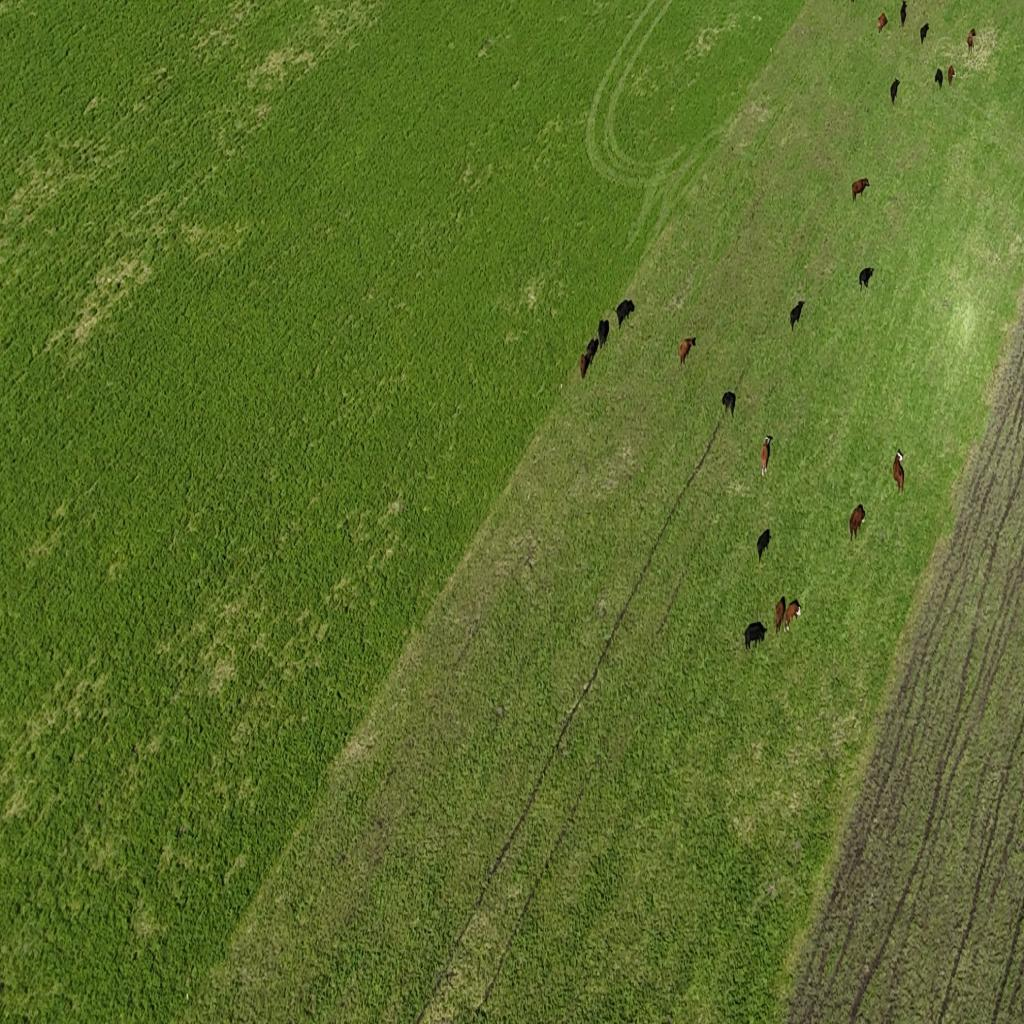cow: (849, 504, 867, 542), (743, 620, 765, 648), (784, 598, 802, 632), (615, 299, 635, 329), (892, 450, 905, 495), (756, 526, 771, 564), (678, 337, 696, 368), (858, 265, 876, 291), (774, 596, 786, 635), (790, 300, 804, 332), (852, 178, 870, 202), (722, 391, 736, 421), (760, 435, 770, 475), (598, 318, 610, 348), (586, 337, 596, 367), (890, 77, 900, 105), (878, 12, 888, 34), (899, 0, 907, 27), (968, 27, 976, 53), (920, 22, 929, 44), (947, 64, 955, 87), (935, 68, 943, 90), (580, 353, 585, 378)
